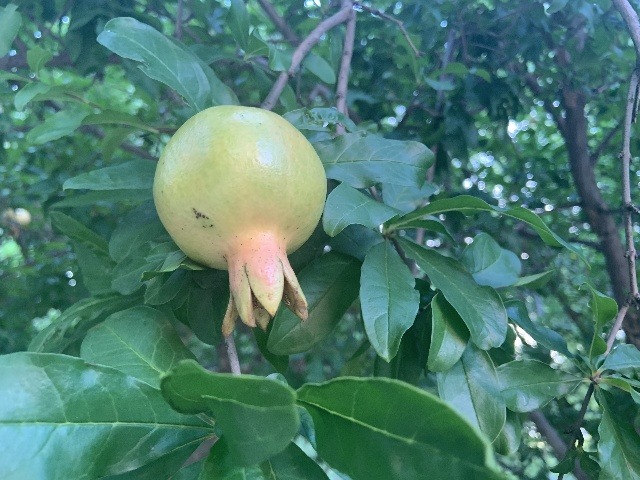mid-growth: (152, 104, 326, 337)
